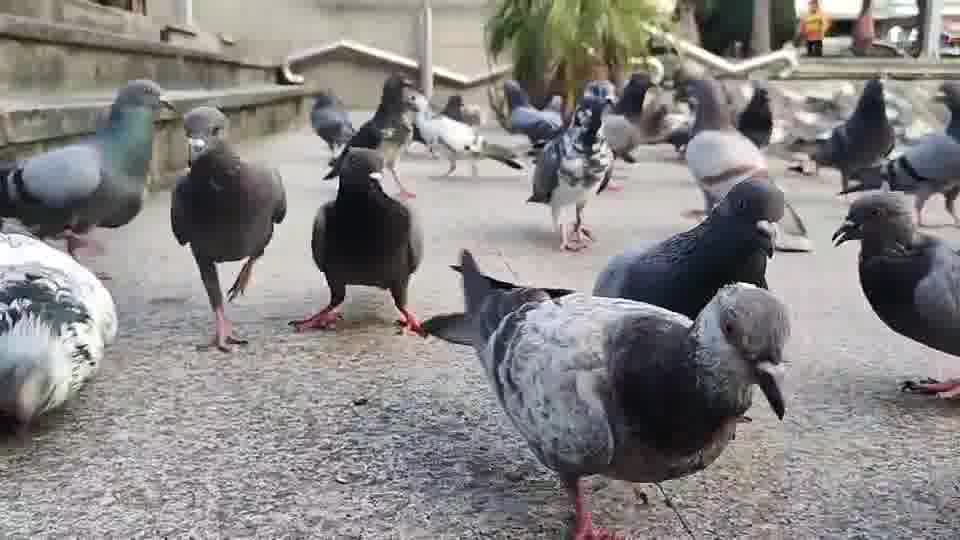Pigeon: (418, 247, 790, 538), (0, 78, 175, 259), (169, 104, 287, 352), (287, 127, 425, 336), (591, 176, 785, 319), (830, 187, 959, 401), (0, 218, 119, 443), (681, 77, 813, 252), (525, 93, 616, 253), (319, 73, 418, 201), (812, 76, 896, 194), (405, 93, 523, 177)
